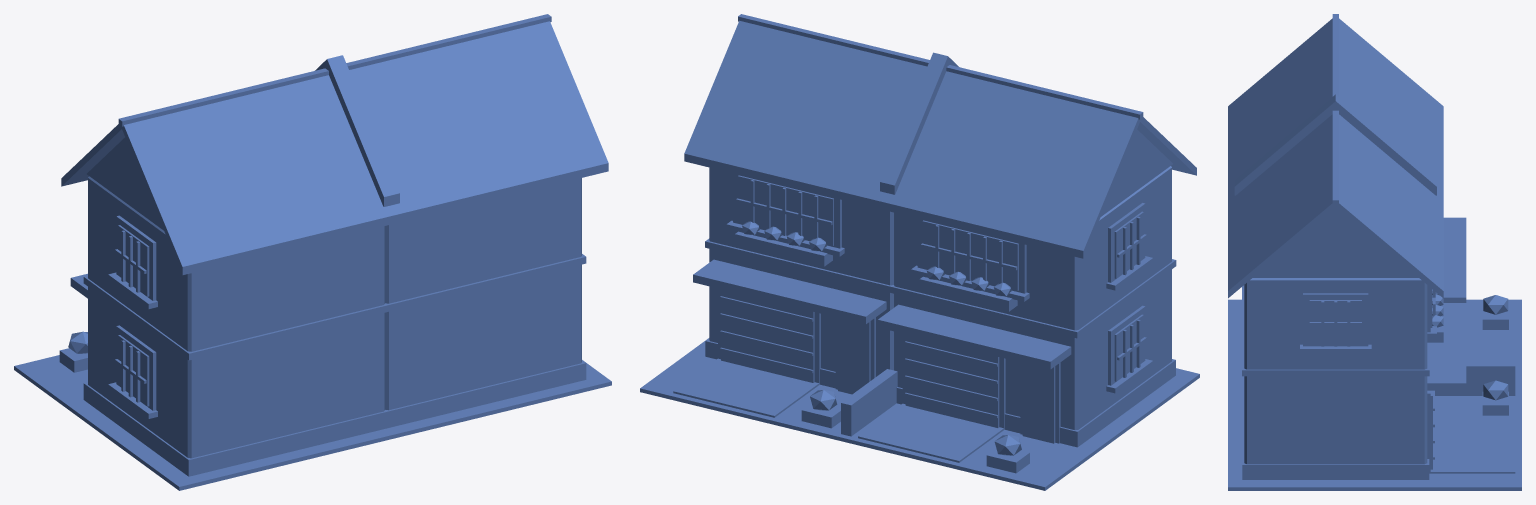
3 views of the same model, side by side, from view 1: azimuth 30°, elevation 25°; view 2: azimuth 150°, elevation 25°; view 3: azimuth 270°, elevation 25° (orthographic). The views are drawn at different scales.
Visible parts, largest first — view 1: corpo; view 2: corpo; view 3: corpo.
Boxes of the visible parts, bbox=[...] form: corpo: bbox=[14, 14, 611, 490]; corpo: bbox=[640, 14, 1199, 490]; corpo: bbox=[1228, 14, 1521, 490].
Bounding box in the file's own units: 1.36 × 1.01 × 0.9.
